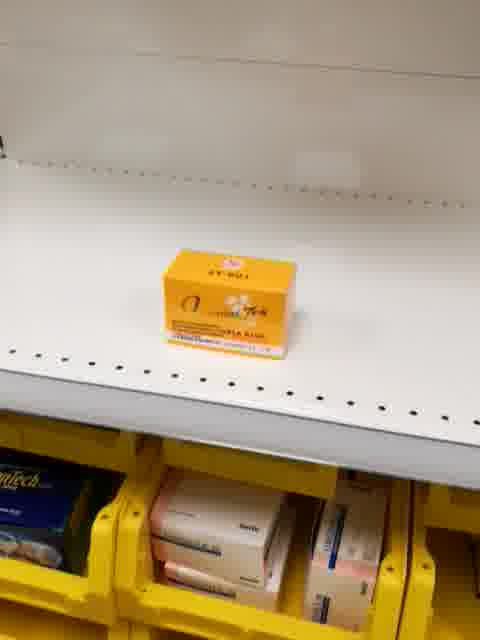jasminetea: (161, 249, 301, 364)
